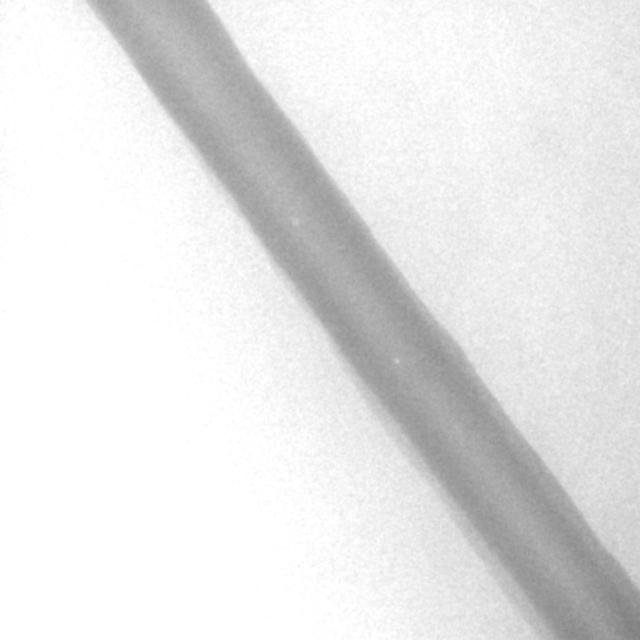air-hole: (294, 213, 301, 229), (394, 354, 401, 366)
